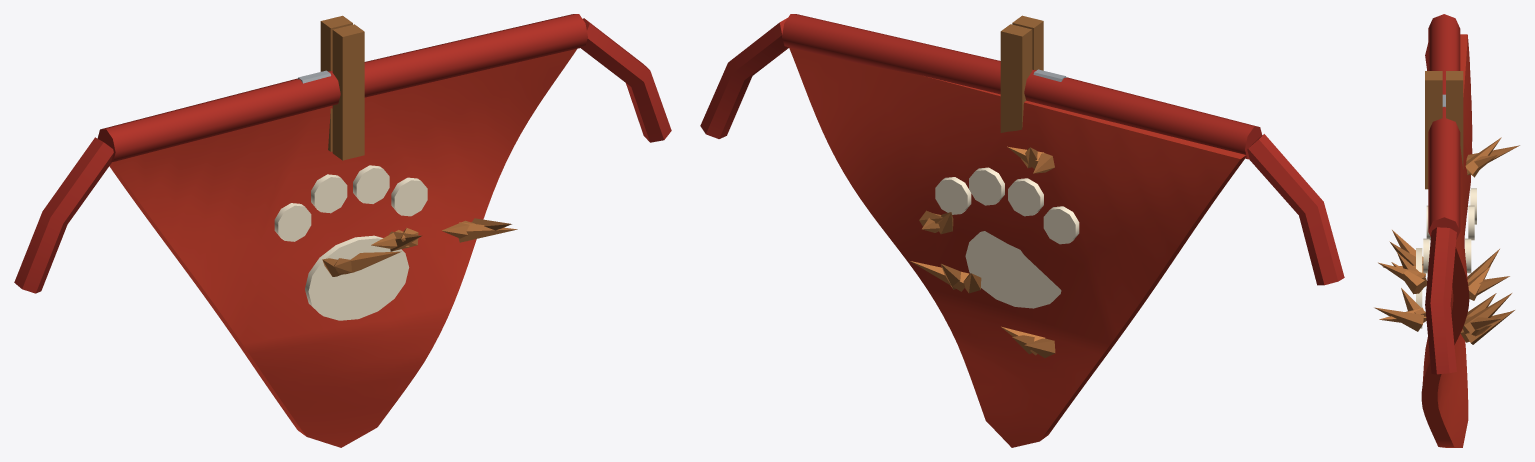
File: cloth_pup_scarf.glb
The picture shows the model from 3 angles, left to right: view 1: azimuth 30°, elevation 25°; view 2: azimuth 150°, elevation 25°; view 3: azimuth 270°, elevation 25°; orthographic projection. The views are drawn at different scales.
Parts seen in each view (by area): view 1: pv3_cloth_pup_scarf; view 2: pv3_cloth_pup_scarf; view 3: pv3_cloth_pup_scarf.
Boxes of the visible parts, left/top/right/bottom form: pv3_cloth_pup_scarf: left=14, top=14, right=671, bottom=447; pv3_cloth_pup_scarf: left=700, top=14, right=1344, bottom=447; pv3_cloth_pup_scarf: left=1374, top=14, right=1519, bottom=447.
Bounding box in the file's own units: 0.4134 × 0.2565 × 0.0918.
